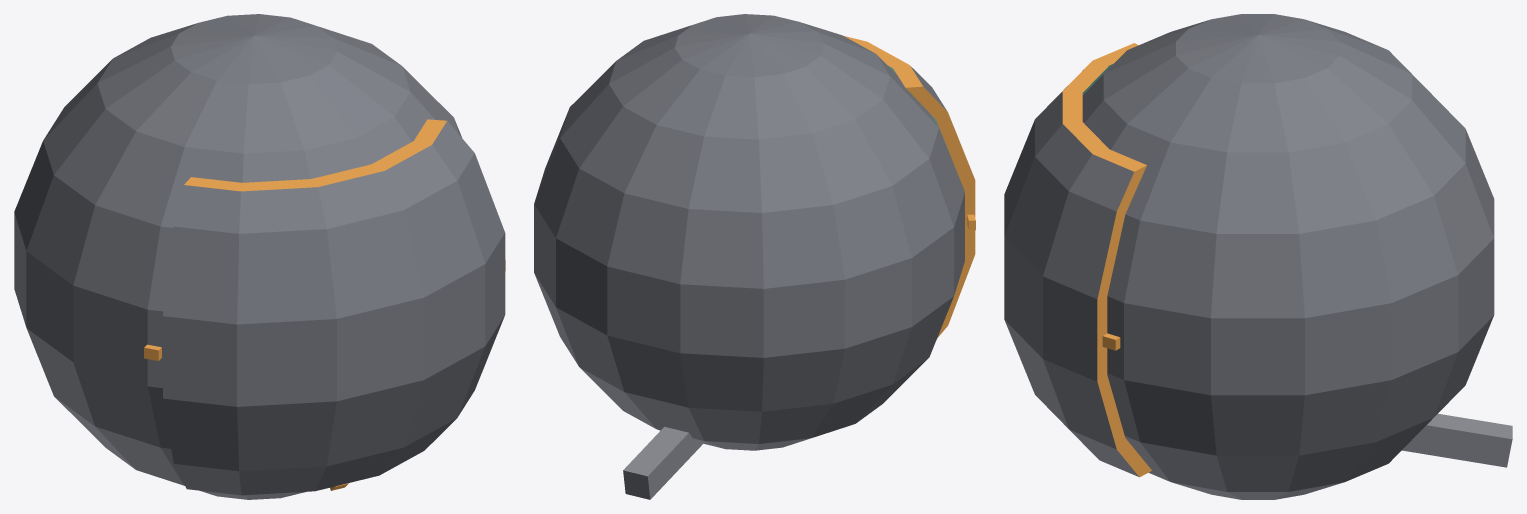
Rendered from allview.glb.
3 views of the same model, side by side, from view 1: azimuth 30°, elevation 25°; view 2: azimuth 150°, elevation 25°; view 3: azimuth 270°, elevation 25° (orthographic). The views are drawn at different scales.
Visible parts, largest first — view 1: visor, shell; view 2: shell, visor, seat_post; view 3: shell, visor, seat_post.
Boxes of the visible parts, x1,y1,x2,y2 form: visor: [163, 119, 505, 495]; shell: [14, 14, 461, 499]; shell: [534, 14, 964, 450]; visor: [844, 36, 975, 338]; seat_post: [623, 426, 704, 499]; shell: [1082, 14, 1494, 499]; visor: [1004, 43, 1151, 477]; seat_post: [1402, 413, 1512, 467].
Bounding box in the file's own units: 2.38 × 2.46 × 2.56.
